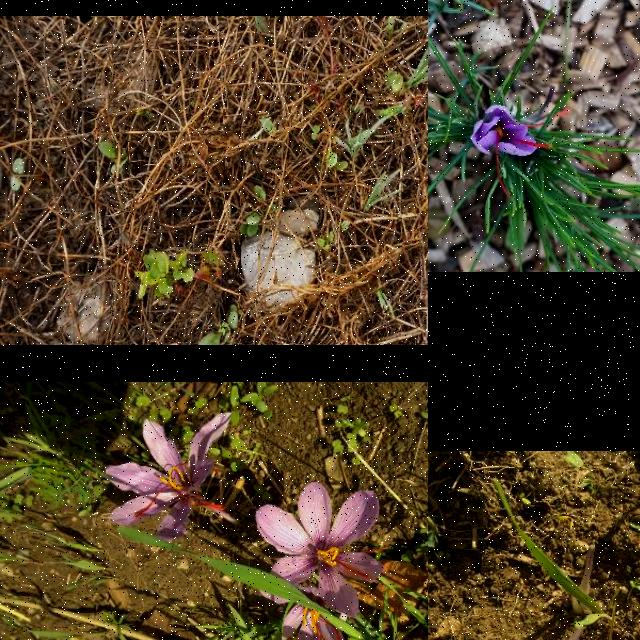flower: (256, 482, 392, 616), (103, 413, 231, 541), (470, 104, 574, 198), (259, 586, 346, 640)
